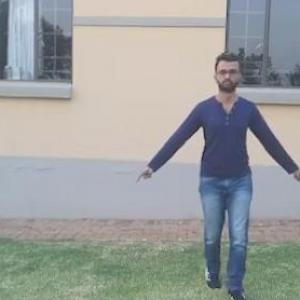land: (155, 66, 300, 266)
